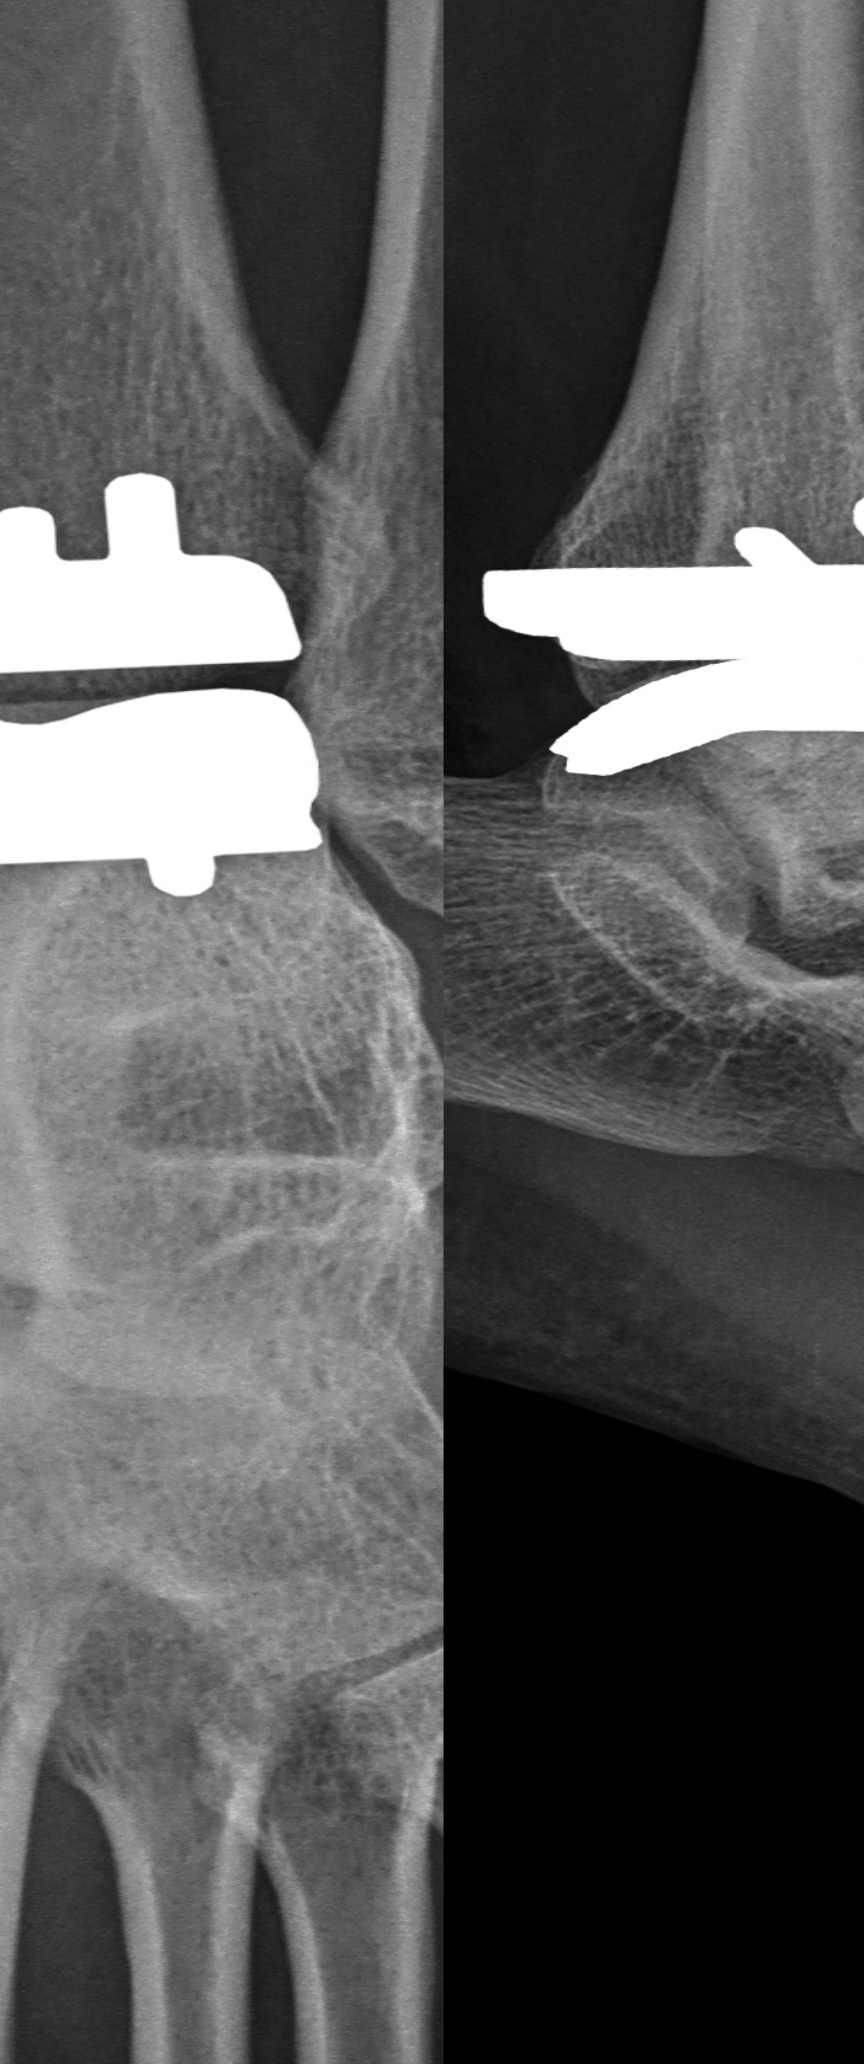Ankle - Infinity - Wright: (1, 445, 367, 956), (461, 498, 864, 788)
